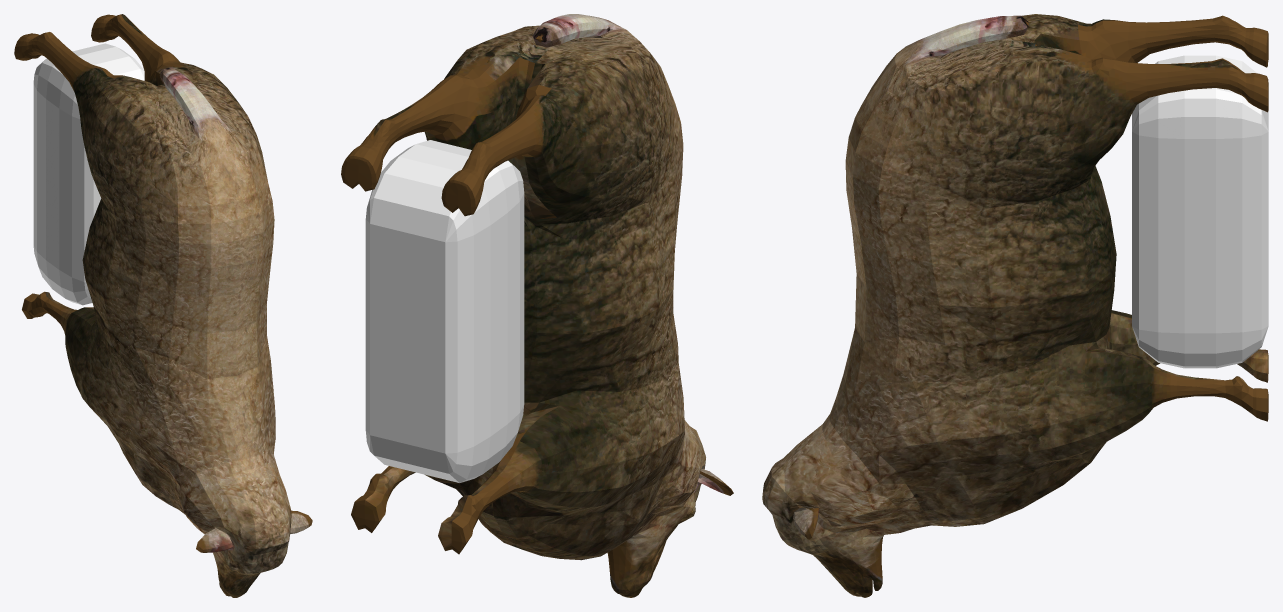
File: sheep_textured.obj
The picture shows the model from 3 angles, left to right: view 1: azimuth 30°, elevation 25°; view 2: azimuth 150°, elevation 25°; view 3: azimuth 270°, elevation 25°; orthographic projection. The views are drawn at different scales.
Visible parts, largest first — view 1: Object.1, Object.2; view 2: Object.1, Object.2; view 3: Object.1, Object.2.
Part boxes in pixels (x1,y1,x2,y2): Object.1: (14,14,312,597); Object.2: (33,43,144,305); Object.1: (341,14,733,597); Object.2: (365,140,524,482); Object.1: (762,14,1268,597); Object.2: (1132,55,1268,368).
Size of the model in its own units: 33.21 by 100 by 79.26.
Materials: 2 (2 with a texture image).
